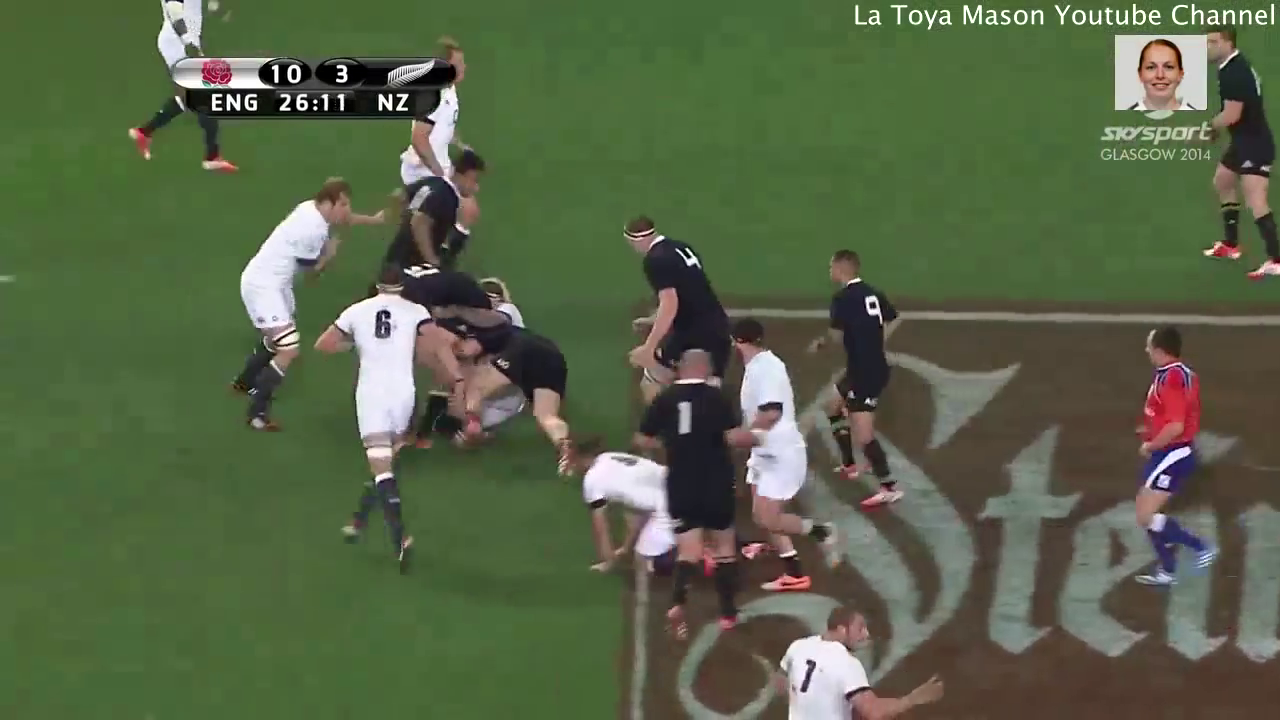player: (309, 257, 453, 582), (223, 160, 389, 438), (721, 312, 846, 597), (1108, 313, 1233, 588), (799, 240, 907, 525), (606, 207, 743, 411), (440, 303, 587, 489), (743, 596, 953, 720), (546, 423, 694, 595), (1188, 16, 1280, 290), (120, 1, 251, 177), (359, 144, 496, 283), (381, 40, 477, 192), (345, 249, 483, 322)
